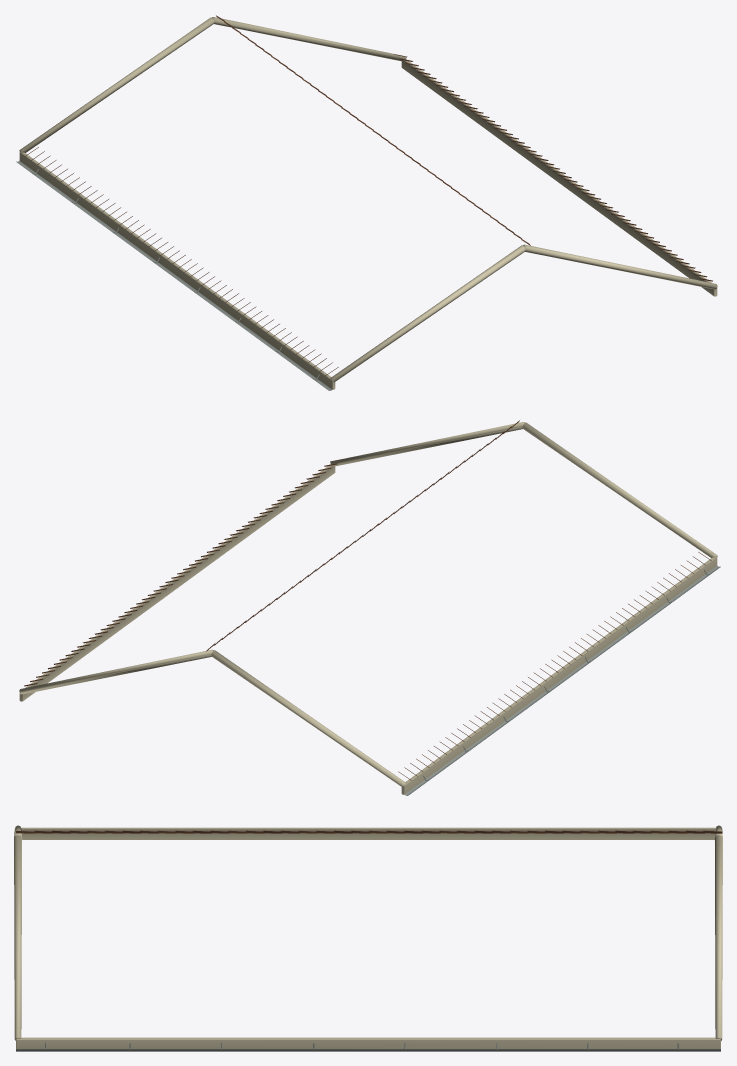
The model's file is garden-roof-edge.glb.
3 renders of one model, top to bottom at view 1: azimuth 30°, elevation 25°; view 2: azimuth 150°, elevation 25°; view 3: azimuth 270°, elevation 25°, orthographic. The views are drawn at different scales.
Visible parts, largest first — view 1: Frame; view 2: Frame; view 3: Frame.
Part boxes in pixels (x1,y1,x2,y2): Frame: (16,15,717,390); Frame: (19,420,720,795); Frame: (14,825,722,1051).
Bounding box in the file's own units: 8.71 × 2.1 × 11.97.
